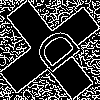D: (25, 25, 83, 81)
